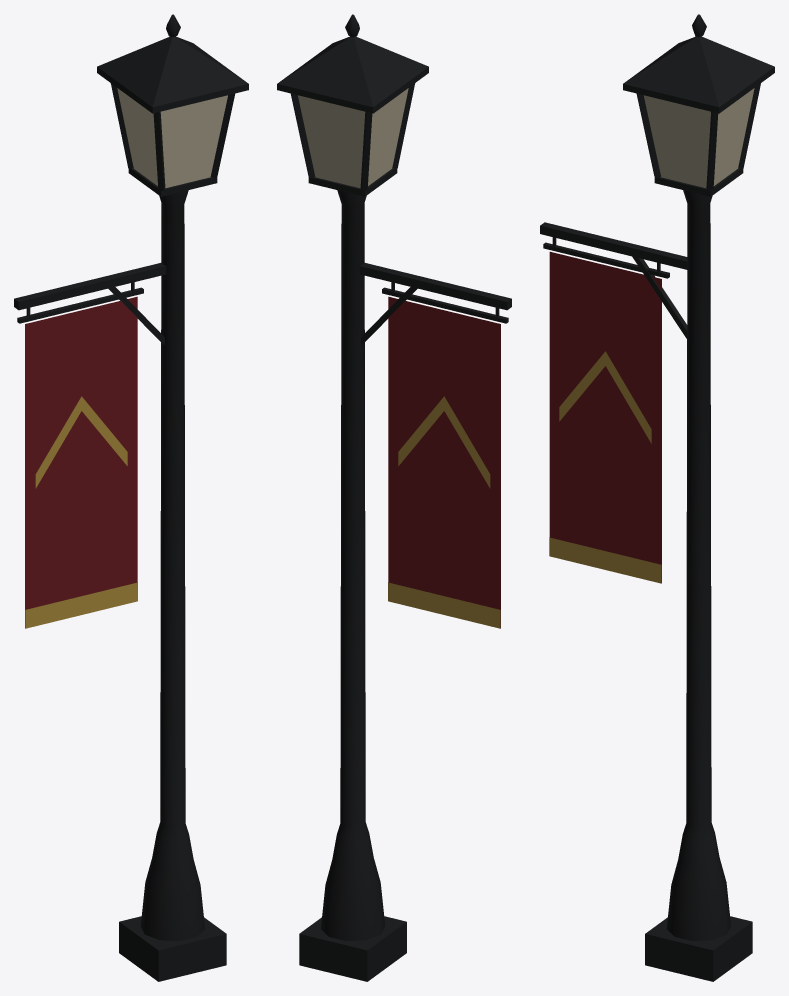
The model's file is lamp.post_banner.crimson.glb.
The picture shows the model from 3 angles, left to right: view 1: azimuth 30°, elevation 25°; view 2: azimuth 150°, elevation 25°; view 3: azimuth 330°, elevation 25°; orthographic projection.
Visible parts, largest first — view 1: lamp_post_banner_crimson; view 2: lamp_post_banner_crimson; view 3: lamp_post_banner_crimson.
Part boxes in pixels (bbox=[...]): lamp_post_banner_crimson: bbox=[14, 14, 248, 981]; lamp_post_banner_crimson: bbox=[277, 14, 511, 981]; lamp_post_banner_crimson: bbox=[540, 14, 774, 981].
Size of what is drawn, in the model's own units: 1.02 by 4.5 by 0.48.
